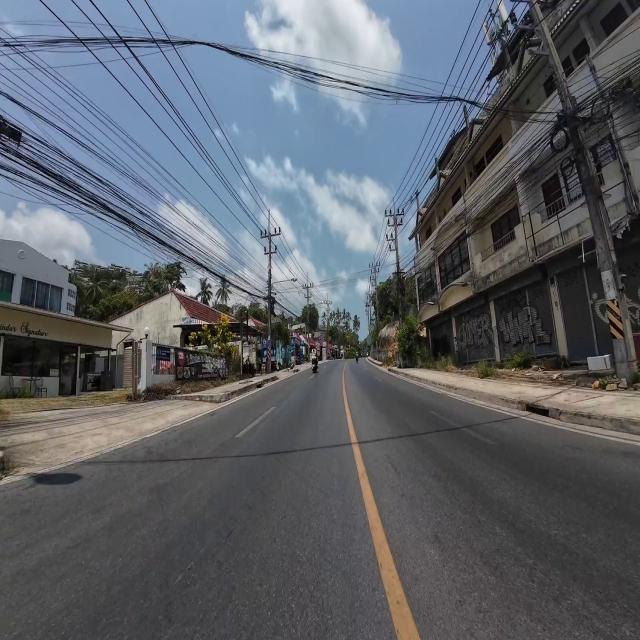motorcycle: (312, 358, 317, 373)
